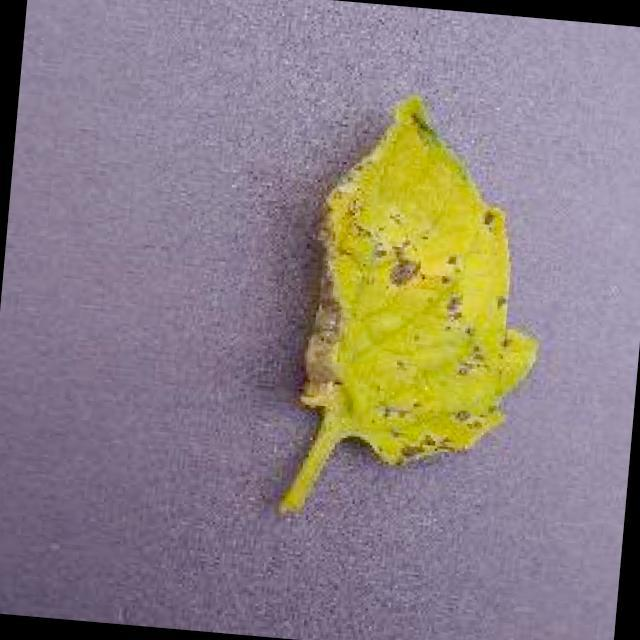Tomato Septoria spot leaf: (286, 80, 568, 476)
